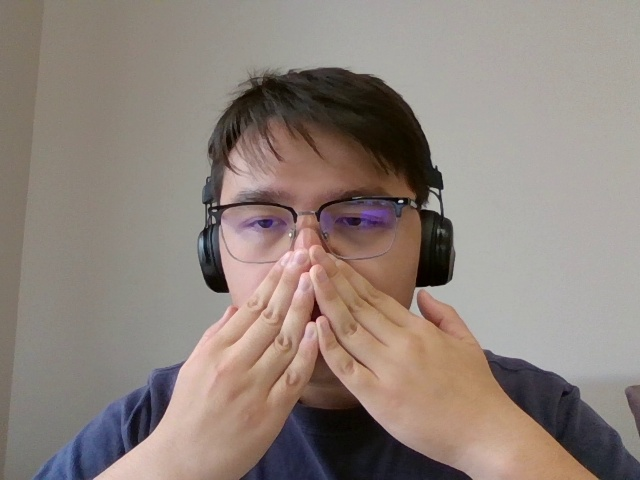Thanks: (112, 227, 554, 470)
